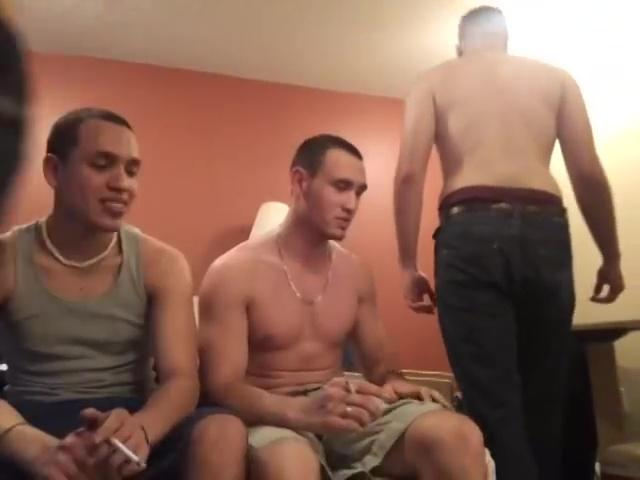cigarette: (108, 433, 149, 472), (345, 377, 357, 397)
